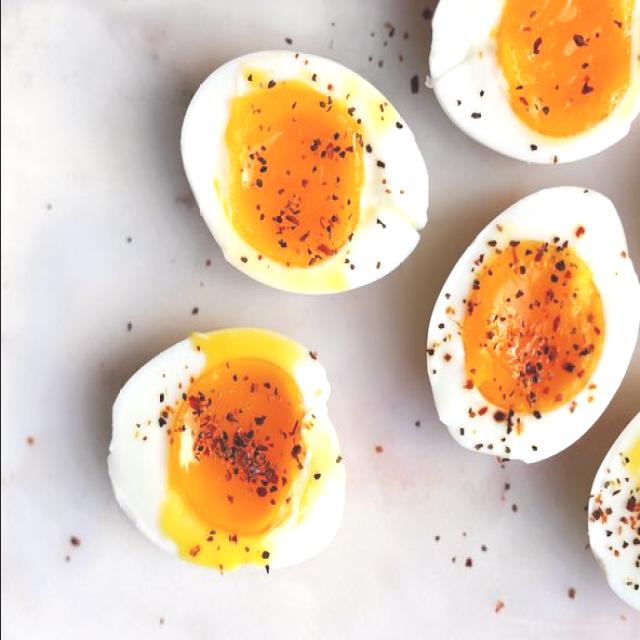telur rebus: (176, 47, 428, 293), (425, 186, 640, 464), (104, 325, 344, 572), (426, 0, 640, 166)
